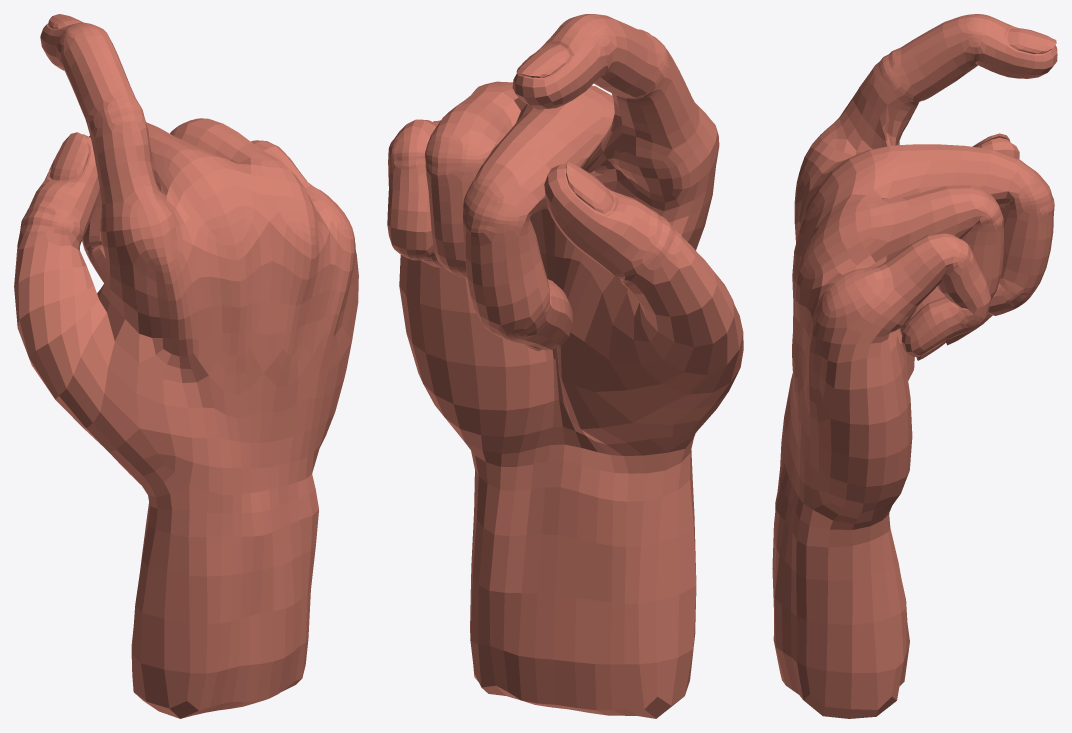
File: dal.glb
The picture shows the model from 3 angles, left to right: view 1: azimuth 30°, elevation 25°; view 2: azimuth 150°, elevation 25°; view 3: azimuth 270°, elevation 25°; orthographic projection. The views are drawn at different scales.
Parts seen in each view (by area): view 1: ZBrushPolyMesh3D; view 2: ZBrushPolyMesh3D; view 3: ZBrushPolyMesh3D.
Boxes of the visible parts, x1=… form: ZBrushPolyMesh3D: x1=14, y1=14, x2=358, y2=718; ZBrushPolyMesh3D: x1=387, y1=14, x2=743, y2=718; ZBrushPolyMesh3D: x1=772, y1=14, x2=1057, y2=718.
Bounding box in the file's own units: 2.25 × 4.51 × 1.82.
